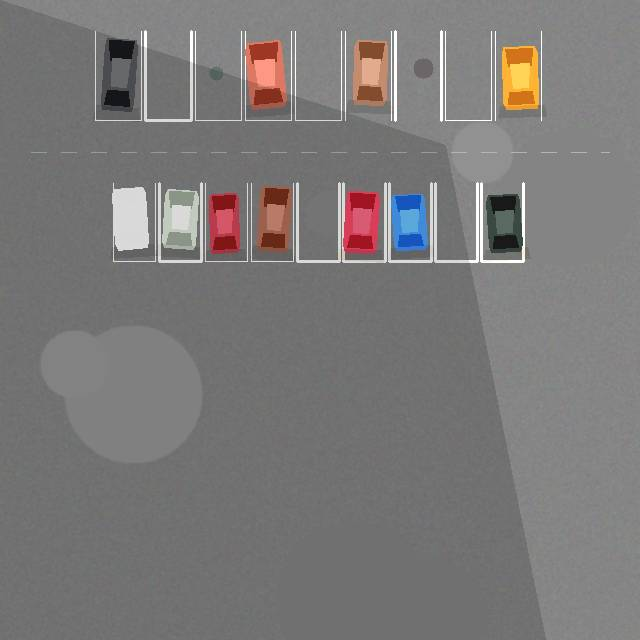space-empty: (145, 31, 191, 120), (195, 31, 241, 120), (295, 31, 341, 120), (395, 31, 441, 120), (445, 31, 491, 120), (297, 183, 339, 261), (435, 183, 477, 261)
space-occupied: (95, 31, 141, 120), (245, 31, 291, 120), (345, 31, 391, 120), (495, 31, 541, 120), (113, 183, 155, 261), (159, 183, 201, 261), (205, 183, 247, 261), (251, 183, 293, 261), (343, 183, 385, 261), (389, 183, 431, 261), (481, 183, 523, 261)
